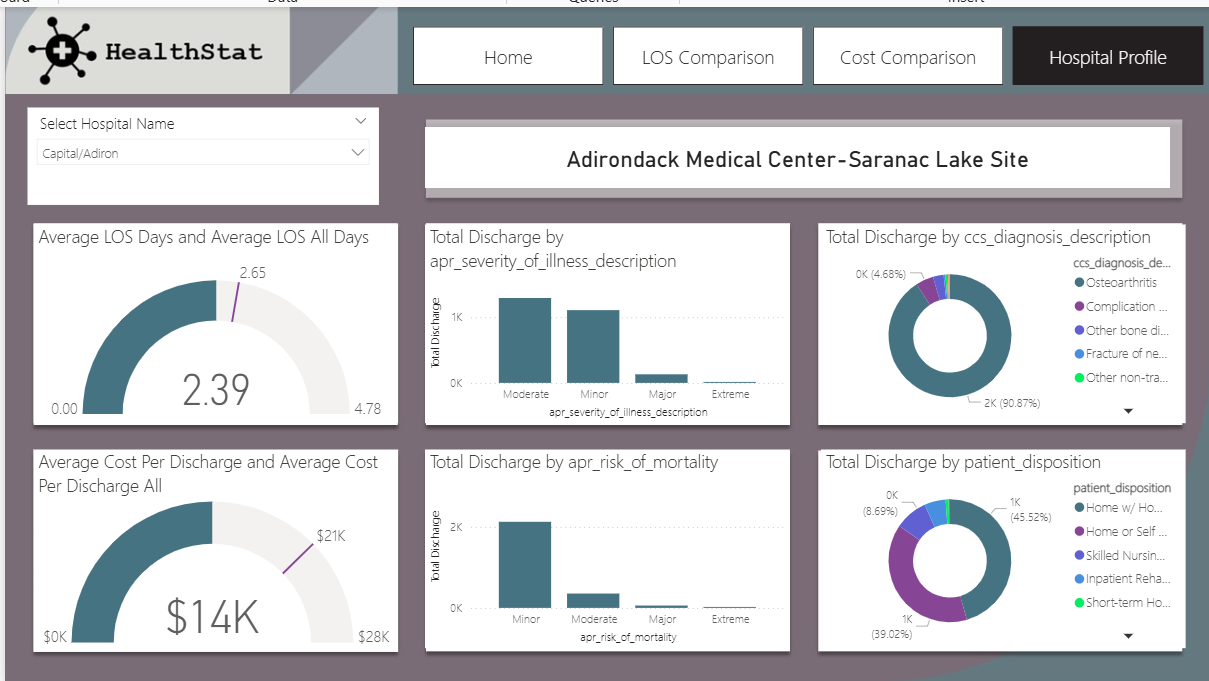

The page's visual inventory and layout, read from the dashboard file:
{"tool":"powerbi","page":{"name":"Hospital Profile","canvas":[1280,720],"ordinal":3},"visuals":[{"type":"gauge","fields":{"Y":["__Measures.Average LOS Days"],"TargetValue":["__Measures.Average LOS All Days"]},"box":[30.4,230.9,386.8,210.6],"z":0},{"type":"gauge","fields":{"Y":["__Measures.Average Cost Per Discharge"],"TargetValue":["__Measures.Average Cost Per Discharge All"]},"box":[30.4,469.9,386.8,214.7],"z":1},{"type":"clusteredColumnChart","fields":{"Y":["__Measures.Total Discharge"],"Category":["hospital_discharges.apr_severity_of_illness_description"]},"box":[445.6,230.9,386.8,210.6],"z":2},{"type":"clusteredColumnChart","fields":{"Y":["__Measures.Total Discharge"],"Category":["hospital_discharges.apr_risk_of_mortality"]},"box":[445.6,469.9,386.8,210.6],"z":3},{"type":"donutChart","fields":{"Y":["__Measures.Total Discharge"],"Category":["hospital_discharges.ccs_diagnosis_description"]},"box":[864.8,230.9,386.8,210.6],"z":4},{"type":"donutChart","fields":{"Y":["__Measures.Total Discharge"],"Category":["hospital_discharges.patient_disposition"]},"box":[864.8,469.9,386.8,210.6],"z":5},{"type":"slicer","fields":{"Values":["hospital_discharges.health_service_area"]},"box":[24.3,107.3,372.7,103.3],"z":6},{"type":"card","fields":{"Values":["Min(Surgical_Program_Size_Summery.facility_name)"]},"box":[445.6,127.6,789.9,64.8],"z":7},{"type":"pageNavigator","box":[433.4,20.3,838.5,62.8],"z":8}]}

Visuals, with their boxes on the page's 1280x720 design canvas (x1, y1, x2, y2). These are canvas units, not pixel positions in the 1209x681 screenshot, which may show the page scaled, cropped or inside an application window:
gauge - __Measures.Average LOS Days x __Measures.Average LOS All Days: box(30, 231, 417, 442)
gauge - __Measures.Average Cost Per Discharge x __Measures.Average Cost Per Discharge All: box(30, 470, 417, 685)
clusteredColumnChart - __Measures.Total Discharge x hospital_discharges.apr_severity_of_illness_description: box(446, 231, 832, 442)
clusteredColumnChart - __Measures.Total Discharge x hospital_discharges.apr_risk_of_mortality: box(446, 470, 832, 680)
donutChart - __Measures.Total Discharge x hospital_discharges.ccs_diagnosis_description: box(865, 231, 1252, 442)
donutChart - __Measures.Total Discharge x hospital_discharges.patient_disposition: box(865, 470, 1252, 680)
slicer - hospital_discharges.health_service_area: box(24, 107, 397, 211)
card - Min(Surgical_Program_Size_Summery.facility_name): box(446, 128, 1236, 192)
pageNavigator: box(433, 20, 1272, 83)
